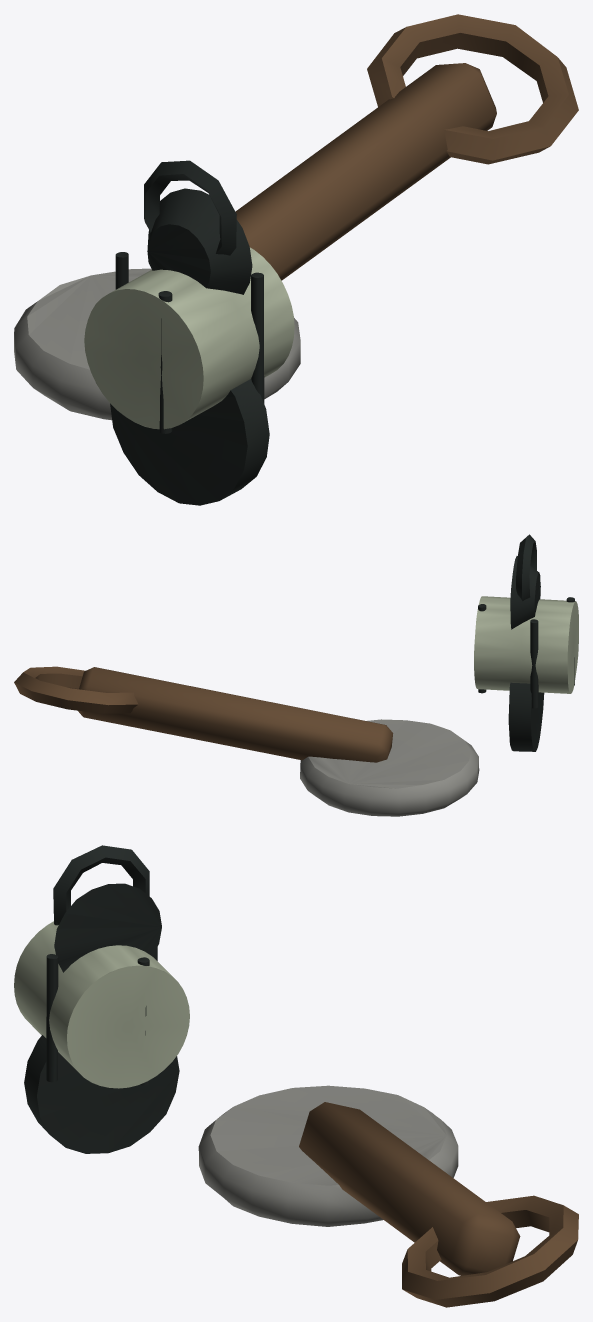
File: storm_lantern_c.glb
3 views of the same model, one above another, from view 1: azimuth 30°, elevation 25°; view 2: azimuth 150°, elevation 25°; view 3: azimuth 270°, elevation 25° (orthographic). The views are drawn at different scales.
Visible parts, largest first — view 1: Surface; view 2: Surface; view 3: Surface.
Part boxes in pixels (x1,y1,x2,y2): Surface: [14, 14, 578, 505]; Surface: [14, 534, 578, 816]; Surface: [14, 845, 578, 1307].
Bounding box in the file's own units: 2.17 × 1.03 × 1.75.
